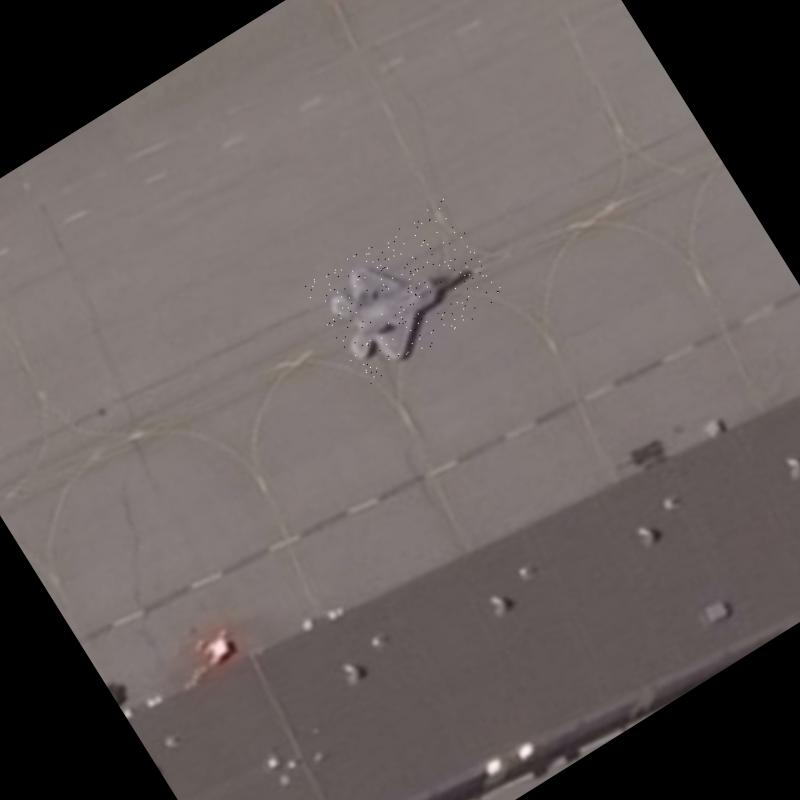A15: (301, 198, 508, 388)
